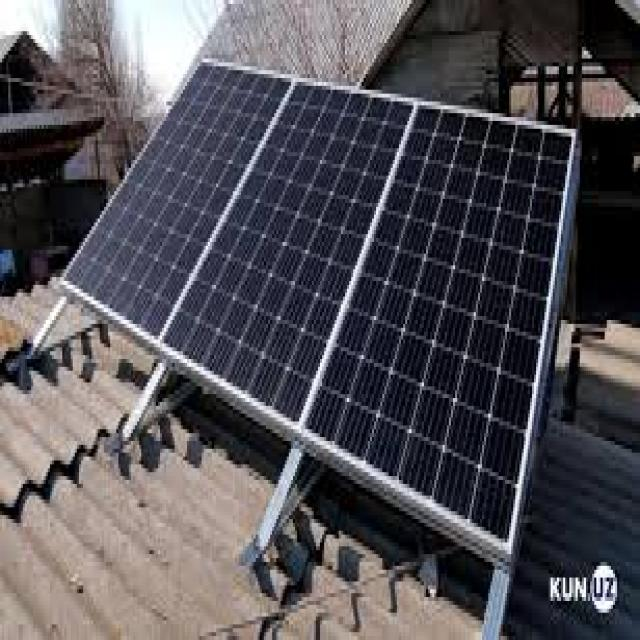no faulty: (301, 104, 567, 541), (163, 85, 406, 426), (63, 65, 284, 335)
